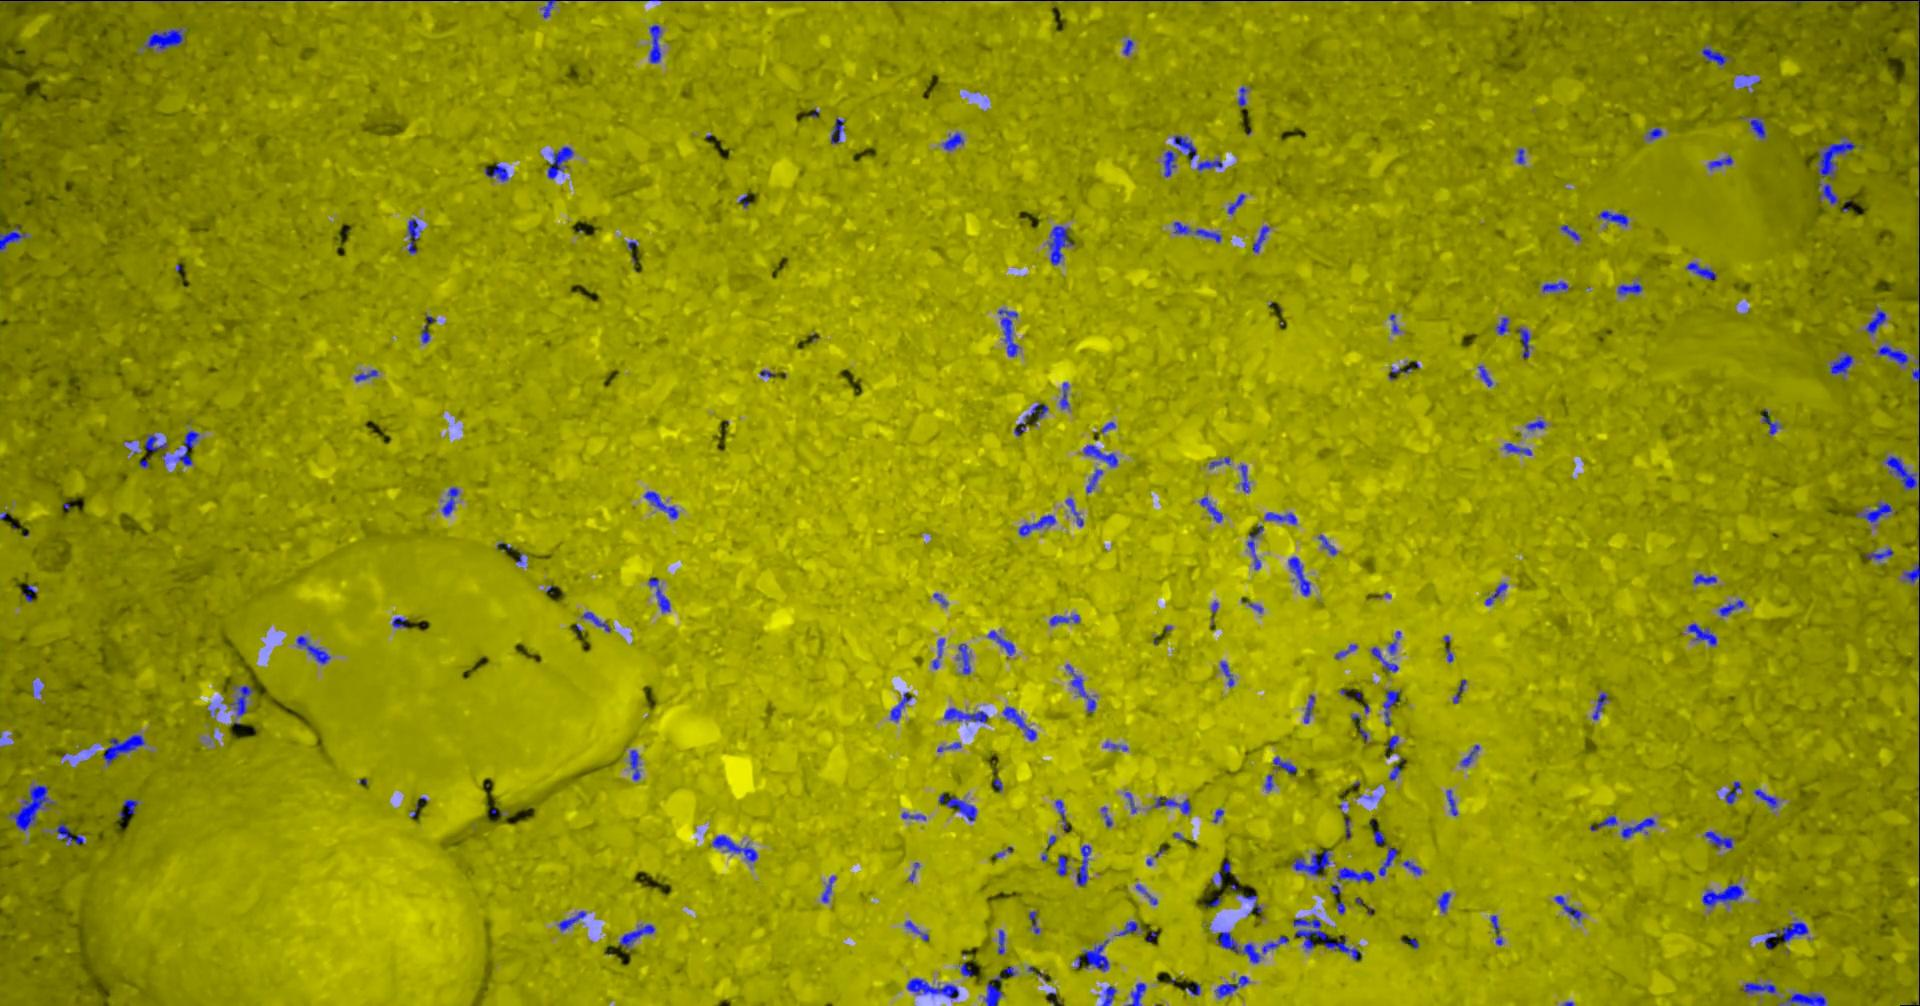ant: (1291, 918, 1360, 960), (1217, 931, 1288, 963), (8, 784, 53, 829), (1817, 137, 1855, 178), (1065, 664, 1095, 713), (102, 734, 143, 763), (711, 835, 757, 861), (1764, 921, 1808, 948), (1002, 706, 1036, 741), (1884, 456, 1919, 489), (905, 977, 957, 998), (938, 793, 977, 821), (1015, 403, 1048, 434), (997, 309, 1018, 356), (1702, 882, 1743, 906), (1048, 225, 1073, 264), (1291, 850, 1330, 875), (643, 492, 678, 518), (296, 635, 329, 663), (143, 28, 185, 50), (1288, 556, 1310, 594), (618, 923, 654, 948), (174, 431, 198, 465), (547, 146, 573, 178), (1083, 939, 1109, 970), (1214, 976, 1248, 998), (648, 577, 669, 612), (229, 685, 253, 716), (1018, 514, 1055, 535), (1083, 445, 1117, 466), (1620, 817, 1655, 838), (1247, 525, 1263, 569), (1855, 502, 1891, 522), (0, 224, 25, 251), (987, 630, 1015, 655), (55, 819, 83, 845), (1382, 688, 1399, 727), (1554, 895, 1581, 921), (889, 691, 910, 721), (1877, 344, 1909, 365), (1371, 647, 1398, 671), (1688, 622, 1716, 645), (983, 974, 1003, 1005), (1173, 135, 1196, 161), (1199, 495, 1222, 522), (1153, 796, 1190, 813), (1378, 843, 1397, 875), (943, 708, 987, 721), (1076, 843, 1090, 885), (1780, 992, 1826, 1005), (582, 611, 610, 631), (557, 909, 585, 930), (1685, 262, 1716, 279), (1702, 46, 1730, 65), (1336, 868, 1374, 882), (1484, 582, 1507, 605), (1829, 352, 1853, 373), (1065, 497, 1083, 526), (1865, 307, 1884, 334), (649, 24, 662, 64), (441, 486, 458, 514), (1704, 831, 1732, 848), (1752, 788, 1777, 808), (904, 920, 928, 940), (1763, 408, 1780, 434), (1597, 210, 1628, 225), (1238, 893, 1261, 913), (1125, 982, 1145, 1005), (1263, 511, 1297, 525), (1351, 714, 1368, 742), (956, 643, 970, 674), (1252, 225, 1269, 251), (1135, 884, 1157, 904), (408, 218, 420, 253), (1084, 467, 1102, 492), (1272, 756, 1297, 774), (1718, 600, 1743, 616), (1817, 183, 1837, 203), (484, 163, 507, 180), (1194, 227, 1220, 243), (1592, 692, 1608, 719), (1516, 326, 1529, 358), (143, 434, 168, 451), (1741, 982, 1775, 993), (1589, 815, 1617, 829), (931, 638, 943, 668), (1460, 744, 1479, 765), (1490, 915, 1502, 945), (941, 132, 963, 150), (1318, 533, 1336, 555), (1724, 781, 1741, 804), (830, 117, 844, 144), (822, 875, 836, 902), (1055, 799, 1067, 831), (1227, 193, 1244, 213), (1749, 117, 1765, 138), (1503, 442, 1531, 455), (1388, 363, 1411, 379), (1049, 614, 1079, 625), (1114, 920, 1137, 935), (1708, 155, 1732, 169), (1477, 365, 1492, 386), (1617, 282, 1642, 295), (1220, 661, 1233, 686), (1218, 861, 1230, 887), (1163, 149, 1175, 177), (1451, 680, 1465, 702), (1303, 695, 1314, 723), (119, 799, 137, 817), (1903, 561, 1919, 582), (1865, 547, 1892, 559), (1335, 644, 1356, 658), (629, 749, 639, 779), (1196, 159, 1222, 170), (1559, 224, 1578, 239), (1542, 279, 1567, 291), (1101, 986, 1116, 1005), (1239, 464, 1250, 492), (1691, 573, 1716, 584), (1437, 890, 1450, 912), (540, 0, 556, 17), (1446, 789, 1457, 815), (1402, 860, 1421, 874), (354, 370, 377, 381), (1388, 630, 1399, 653), (1029, 911, 1039, 934), (1495, 318, 1509, 334), (1059, 382, 1068, 408), (1836, 0, 1919, 3), (1173, 221, 1190, 234), (23, 584, 36, 601), (1237, 86, 1247, 105), (1525, 419, 1544, 429), (997, 929, 1004, 954), (1057, 855, 1065, 876), (1646, 127, 1662, 138), (960, 962, 973, 976), (1387, 735, 1398, 749), (1373, 829, 1384, 843), (1123, 39, 1133, 55), (392, 617, 408, 627), (1389, 765, 1399, 779), (1917, 39, 1919, 113)
